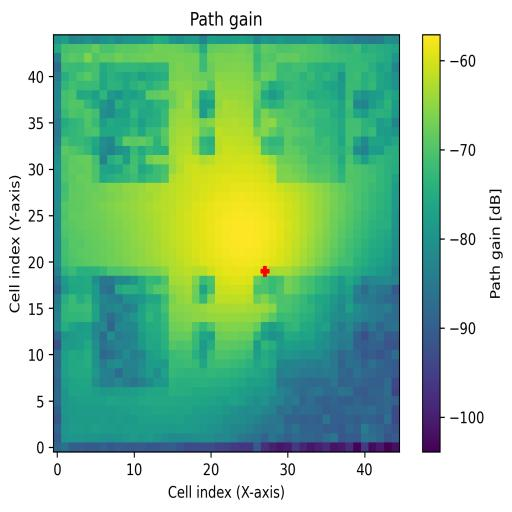Concrete: (277, 63, 345, 183)
Glass: (100, 62, 170, 184)
Metal: (269, 276, 353, 386)
Wood: (91, 276, 170, 388)
